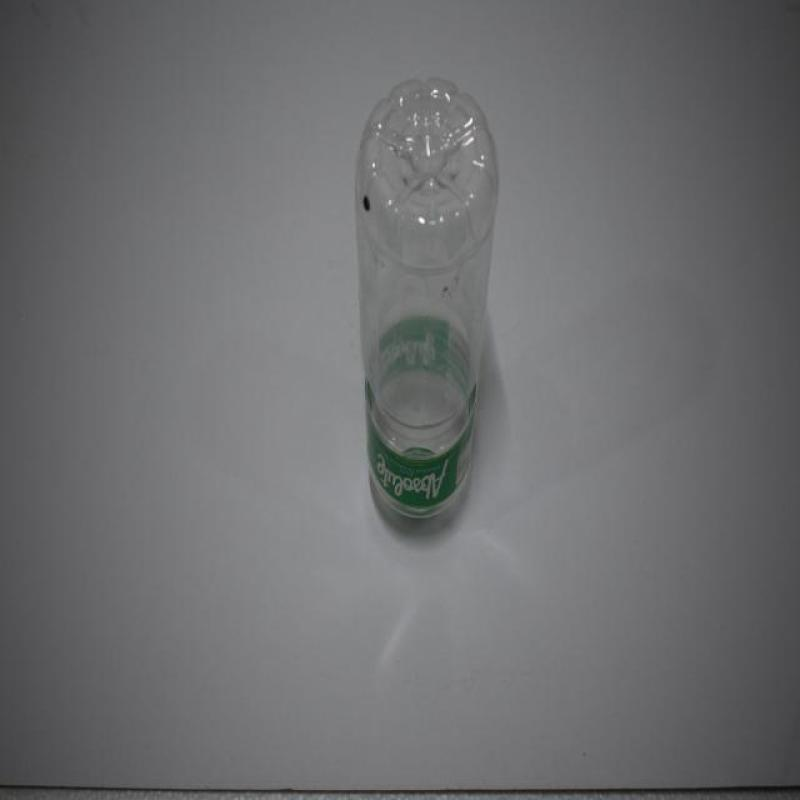botella: (356, 77, 497, 522)
